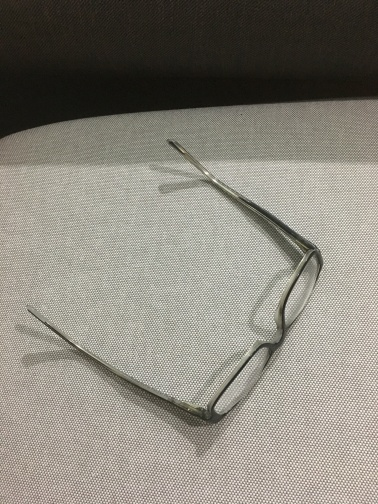glasses: (28, 131, 333, 439)
